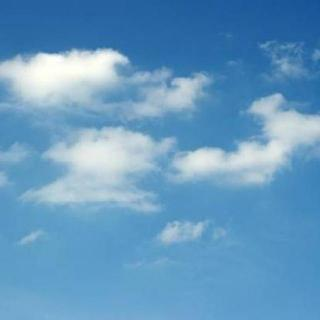Cirrocumulus: (0, 49, 320, 262)
